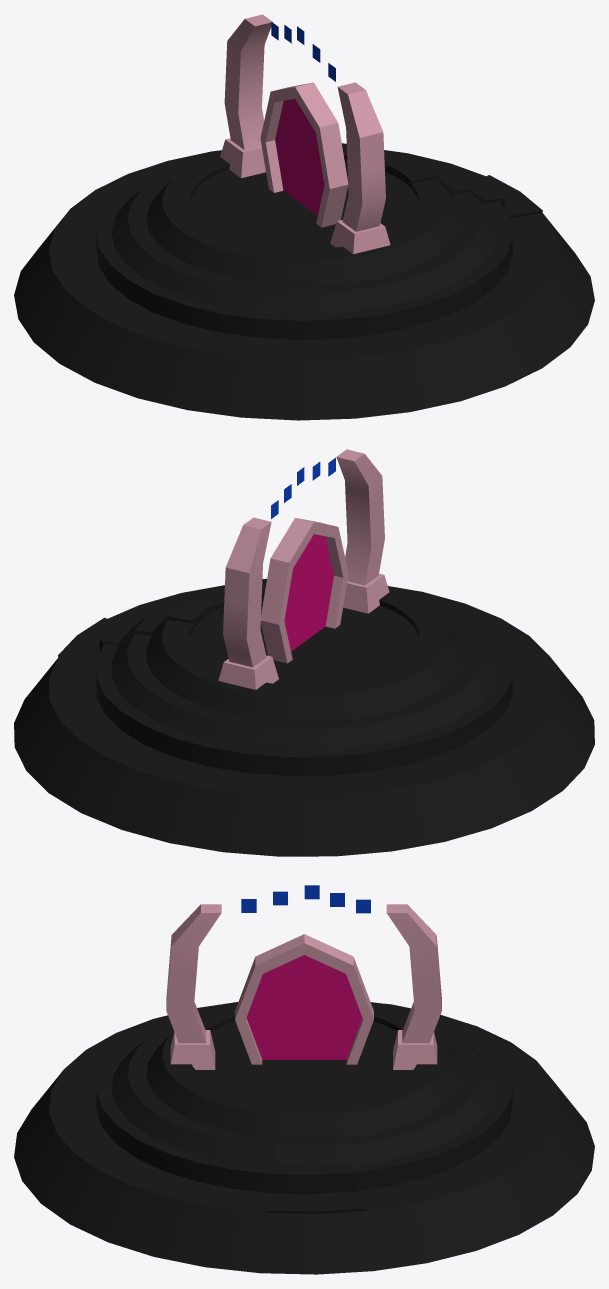
The picture shows the model from 3 angles, top to bottom: view 1: azimuth 30°, elevation 25°; view 2: azimuth 150°, elevation 25°; view 3: azimuth 270°, elevation 25°; orthographic projection.
Visible parts, largest first — view 1: zemin, main.001, main.002, isik; view 2: zemin, main.001, main.002, isik; view 3: zemin, main.001, main.002, isik.
Part boxes in pixels (left/top/right/bottom): zemin: left=14, top=143, right=594, bottom=420; main.001: left=220, top=14, right=390, bottom=254; main.002: left=275, top=99, right=324, bottom=215; isik: left=271, top=22, right=335, bottom=81; zemin: left=14, top=578, right=594, bottom=856; main.001: left=218, top=449, right=389, bottom=689; main.002: left=284, top=534, right=333, bottom=651; isik: left=271, top=457, right=335, bottom=518; zemin: left=14, top=1002, right=594, bottom=1274; main.001: left=166, top=904, right=441, bottom=1069; main.002: left=246, top=955, right=362, bottom=1059; isik: left=241, top=885, right=370, bottom=913.
Size of the model in its own units: 1284 by 649 by 1284.
